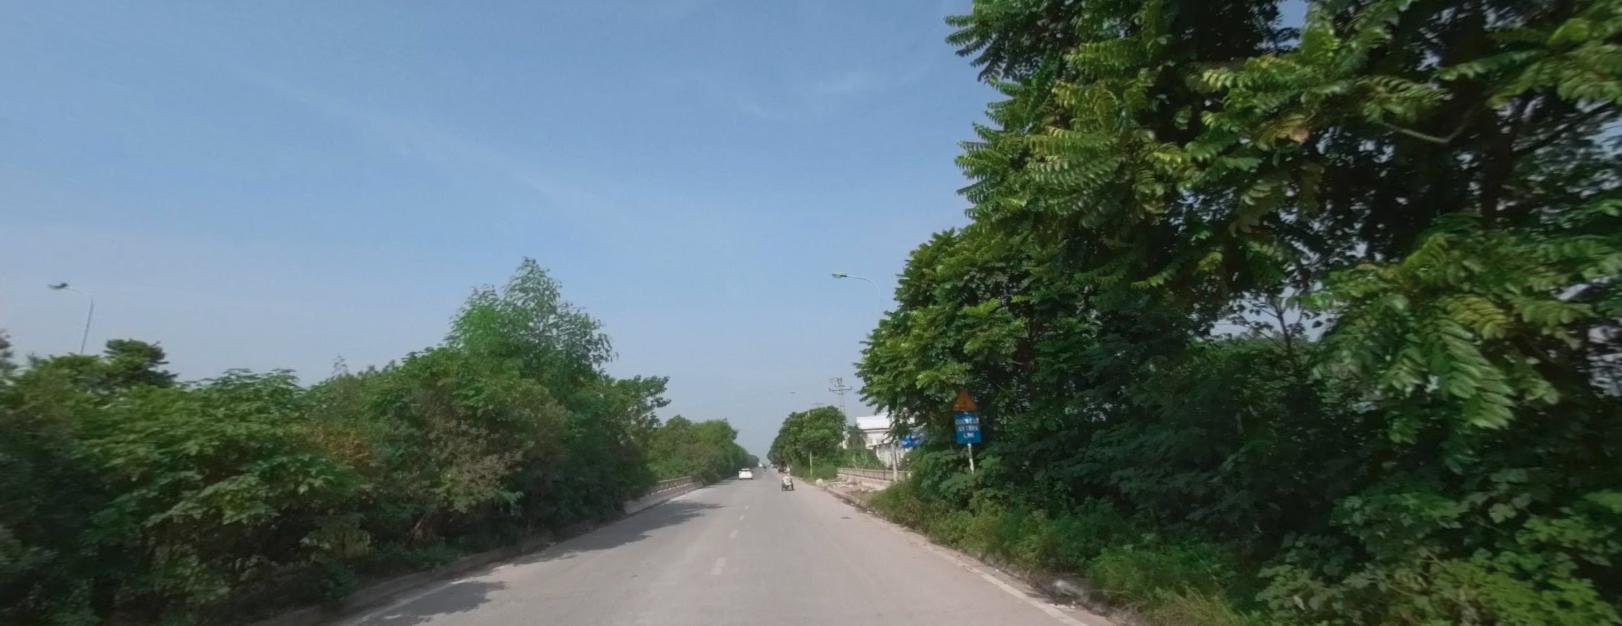Nguy hiem: (952, 387, 977, 409)
